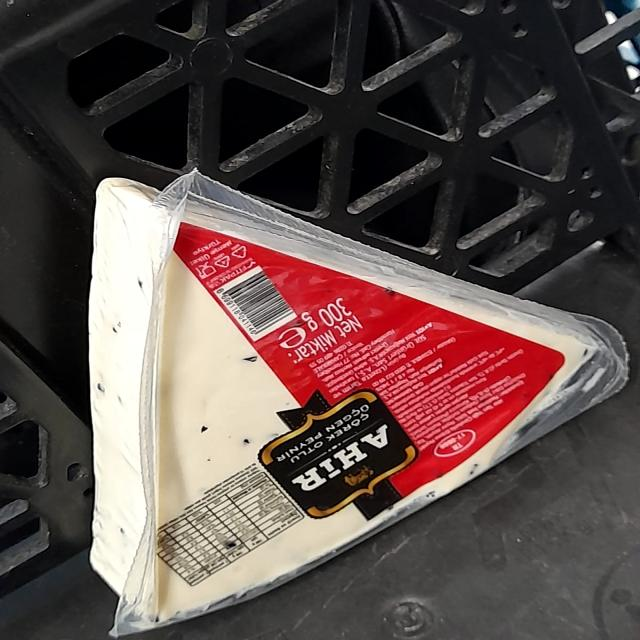cheese: (63, 187, 616, 631)
